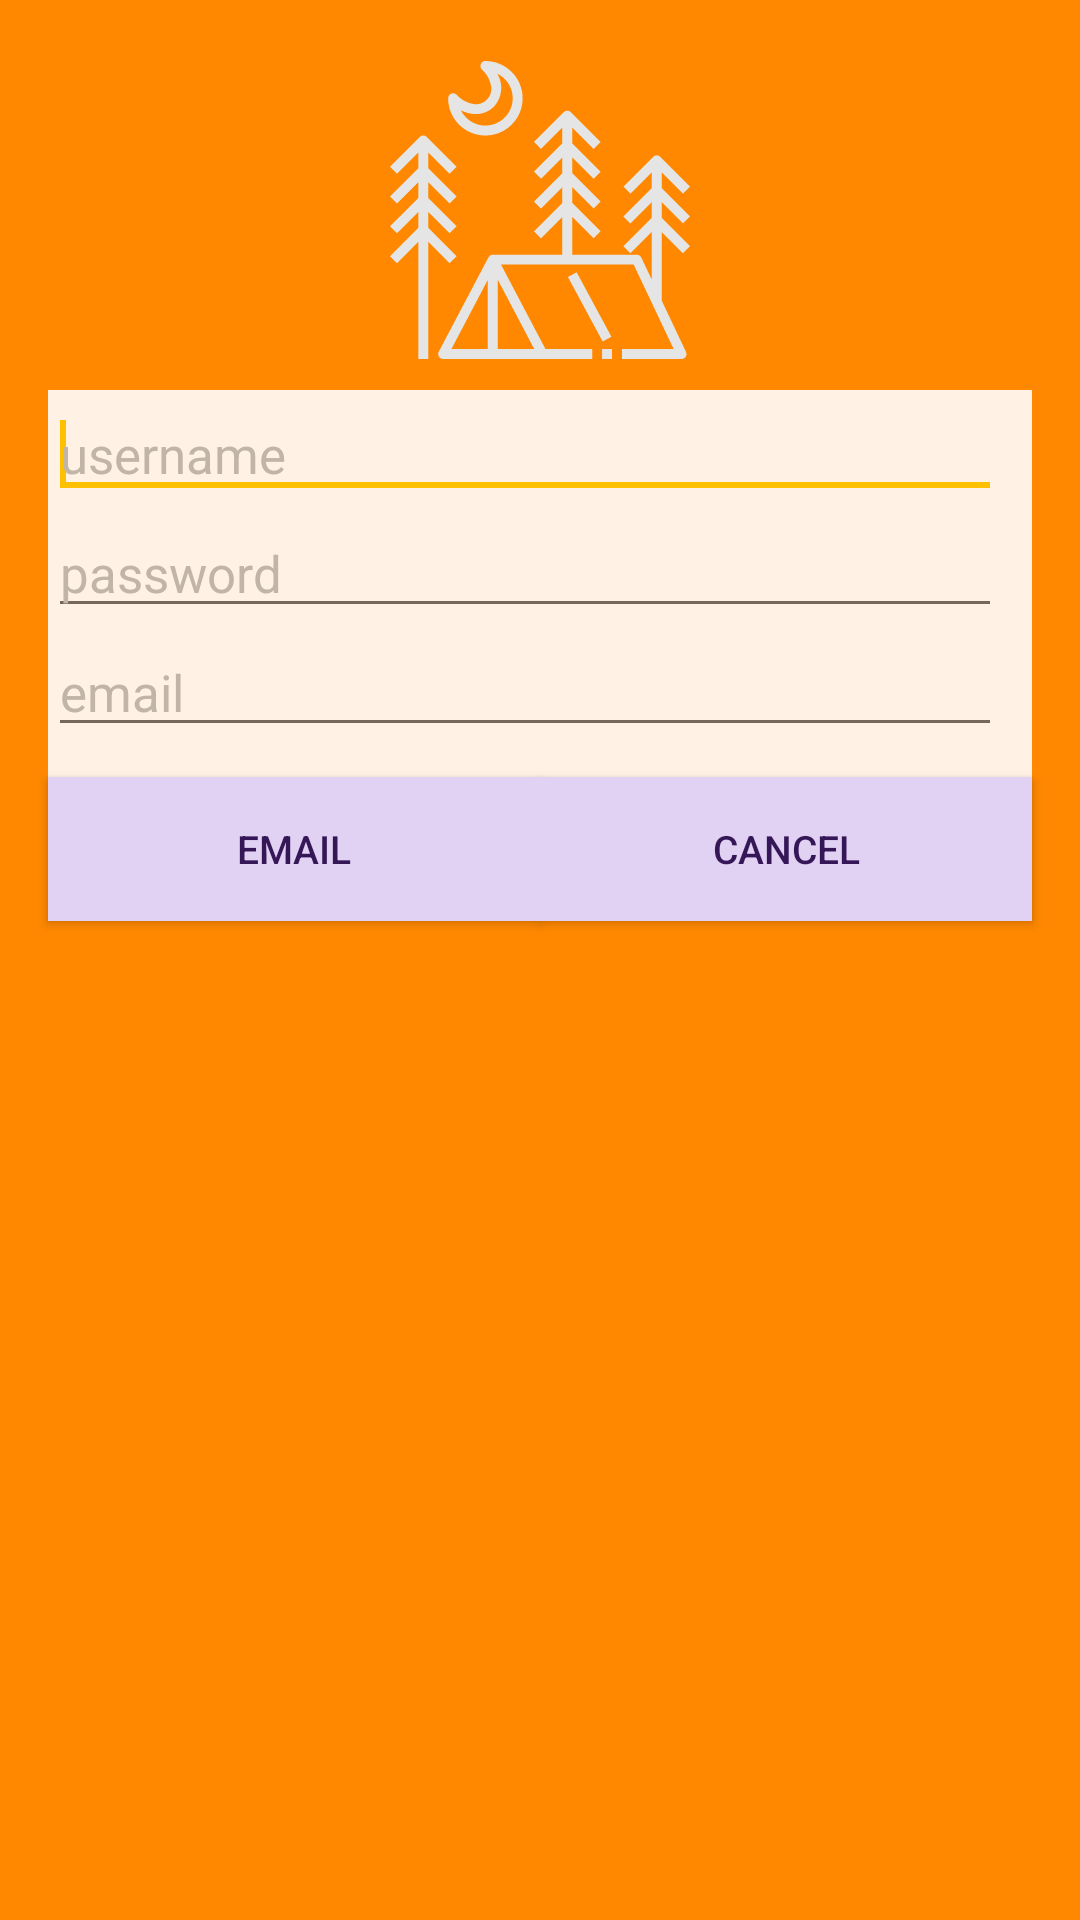

Where icons sit on this 1080 × 1920 app screen, as [x1, y1, x2, y2]:
tent: [390, 61, 690, 359]
